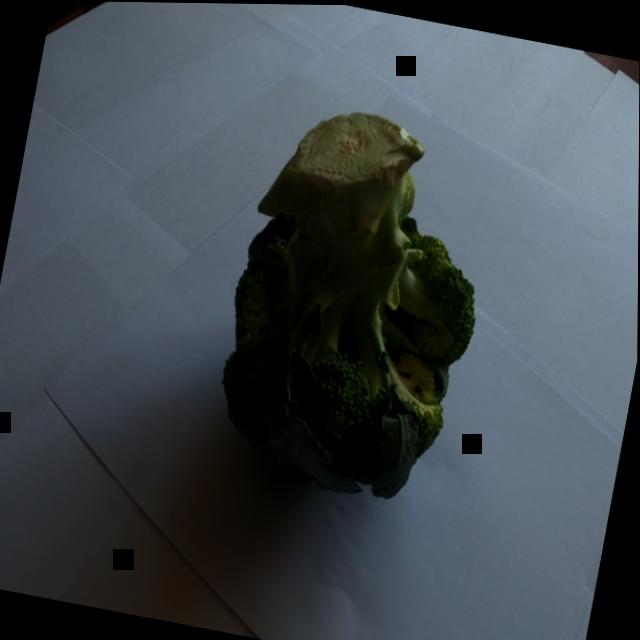Broccoli: (191, 68, 523, 534)
